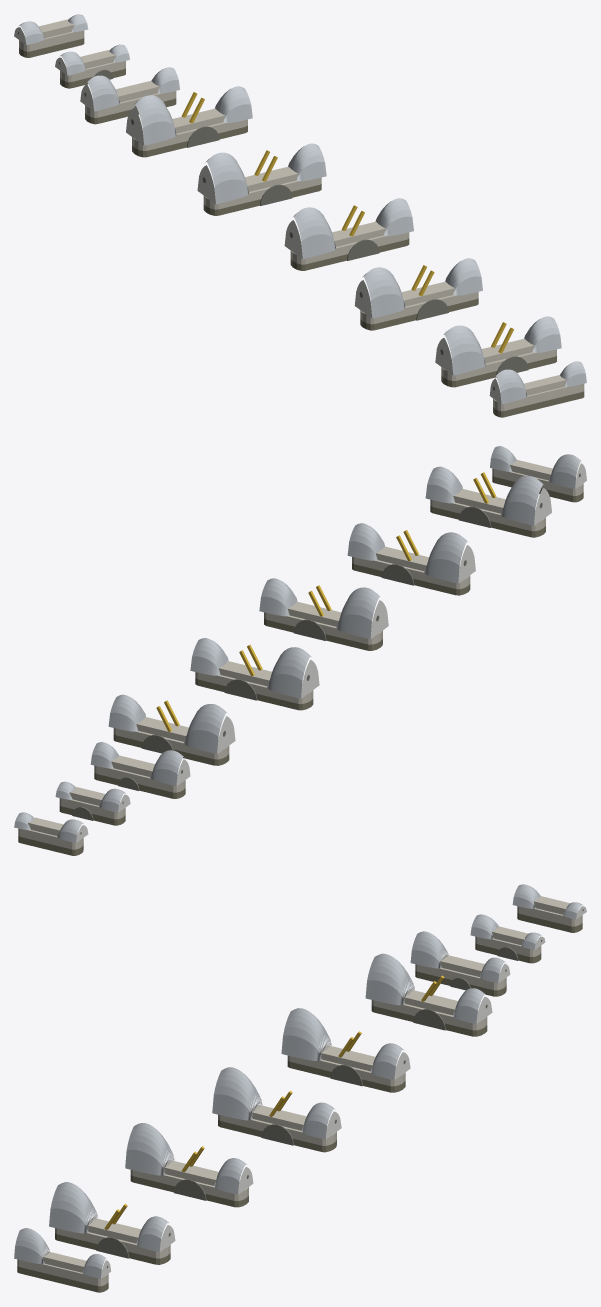
The model's file is london-thames-barrier.glb.
3 renders of one model, top to bottom at view 1: azimuth 30°, elevation 25°; view 2: azimuth 150°, elevation 25°; view 3: azimuth 330°, elevation 25°, orthographic.
Visible parts, largest first — view 1: Thames Barrier; view 2: Thames Barrier; view 3: Thames Barrier.
Part boxes in pixels (x1,y1,x2,y2): Thames Barrier: [14, 14, 586, 417]; Thames Barrier: [14, 446, 586, 855]; Thames Barrier: [14, 884, 586, 1292].
Size of the model in its own units: 64.96 by 28.69 by 457.
